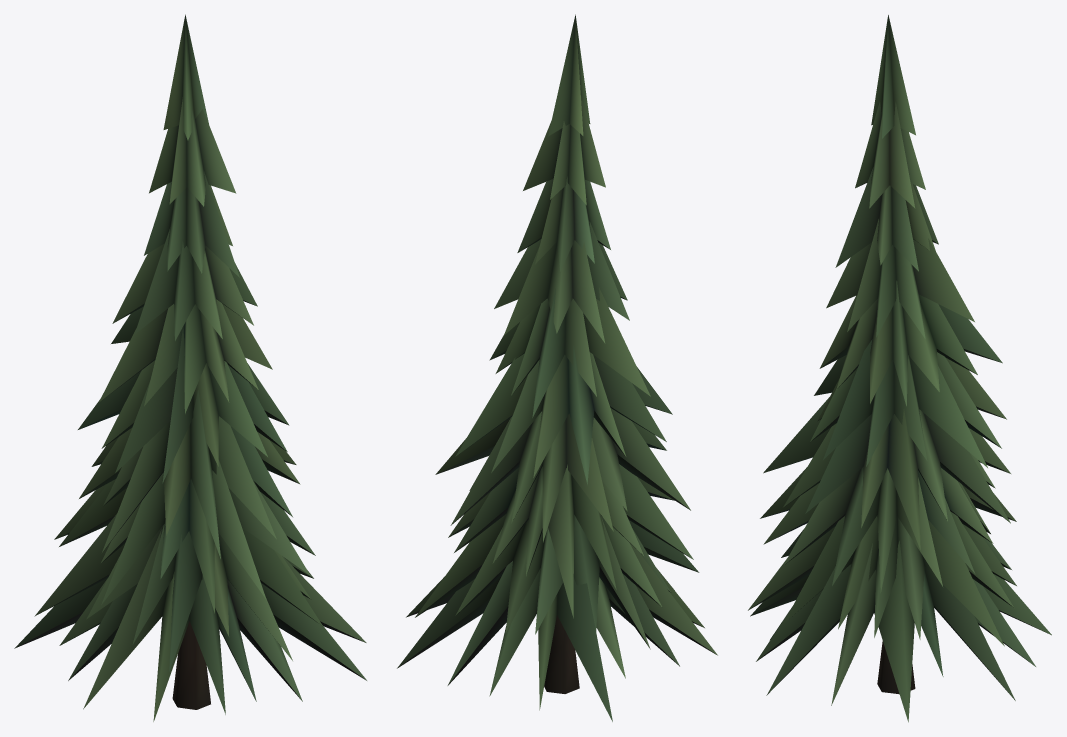
Rendered from pine_b.glb.
3 views of the same model, side by side, from view 1: azimuth 30°, elevation 25°; view 2: azimuth 150°, elevation 25°; view 3: azimuth 270°, elevation 25° (orthographic). The views are drawn at different scales.
Parts seen in each view (by area): view 1: PineB; view 2: PineB; view 3: PineB.
Boxes of the visible parts, bbox=[...] form: PineB: bbox=[14, 14, 366, 721]; PineB: bbox=[397, 14, 717, 721]; PineB: bbox=[748, 15, 1051, 722].
Bounding box in the file's own units: 4.95 × 11.3 × 4.68.
